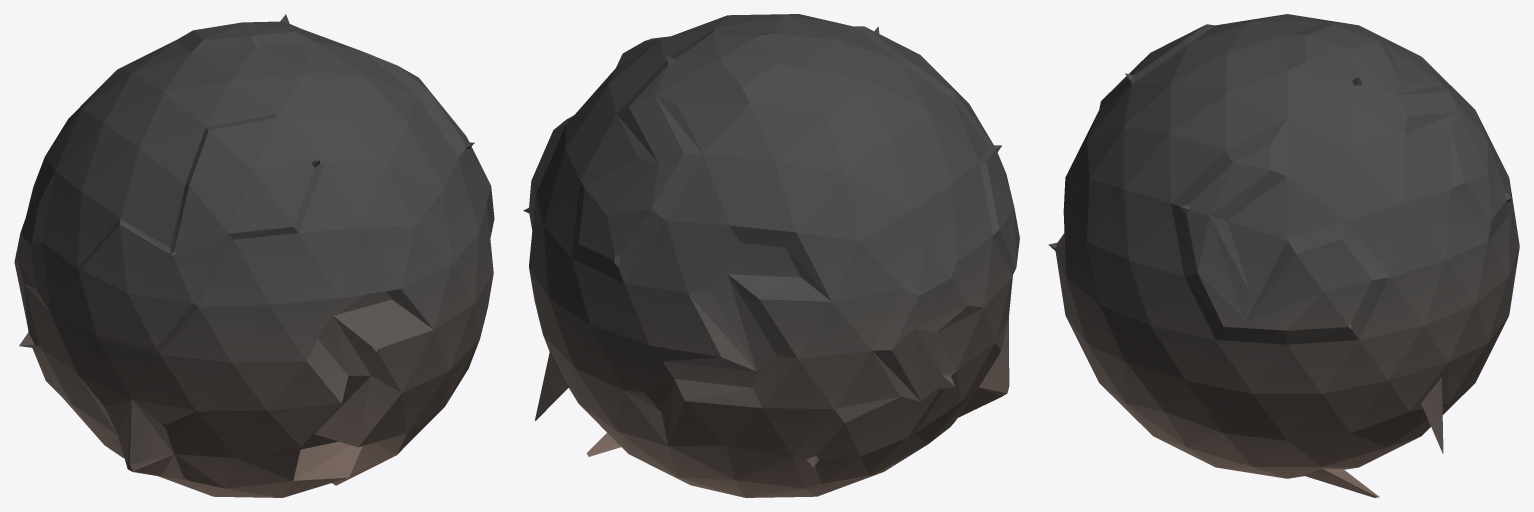
The model's file is Metalic_planet_stage1.FBX.
3 renders of one model, left to right at view 1: azimuth 30°, elevation 25°; view 2: azimuth 150°, elevation 25°; view 3: azimuth 270°, elevation 25°, orthographic. The views are drawn at different scales.
Visible parts, largest first — view 1: Metalic_Stage_1; view 2: Metalic_Stage_1; view 3: Metalic_Stage_1.
Boxes of the visible parts, x1,y1,x2,y2 form: Metalic_Stage_1: (14,14,494,497); Metalic_Stage_1: (523,14,1019,497); Metalic_Stage_1: (1048,14,1519,497).
Bounding box in the file's own units: 81.64 × 80.48 × 81.15.
Materials: 1 (1 with a texture image).
